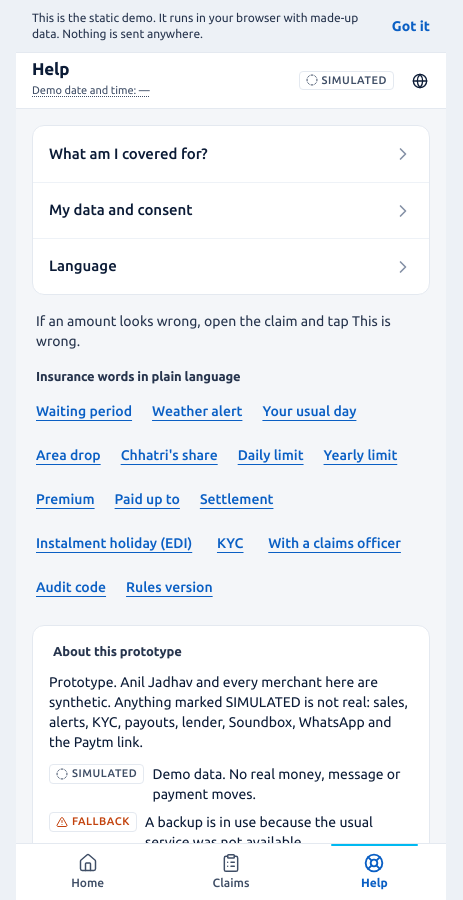
Scenario: the flag › adds the Help row with the flag, and it opens the screen
The image size is (463, 900).
What coordinates should you click on to do the following:
click the link with test id "help-consents"
I would click on:
 (121, 210)
Its box is [33,182,429,238].
(page scrolled)
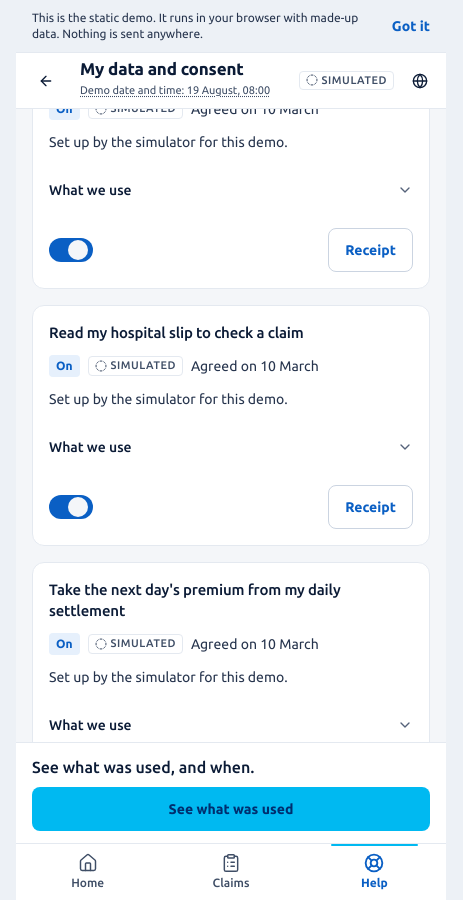
Check: the element with test id "screen-consents" is shown
